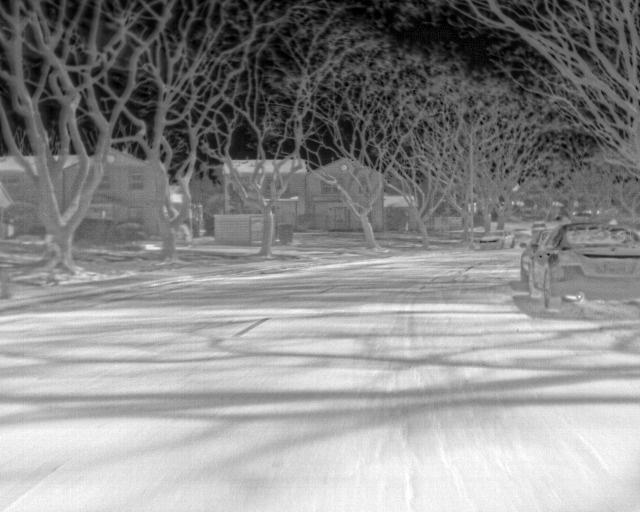car: (530, 224, 638, 310), (520, 234, 557, 286), (477, 227, 513, 251)
